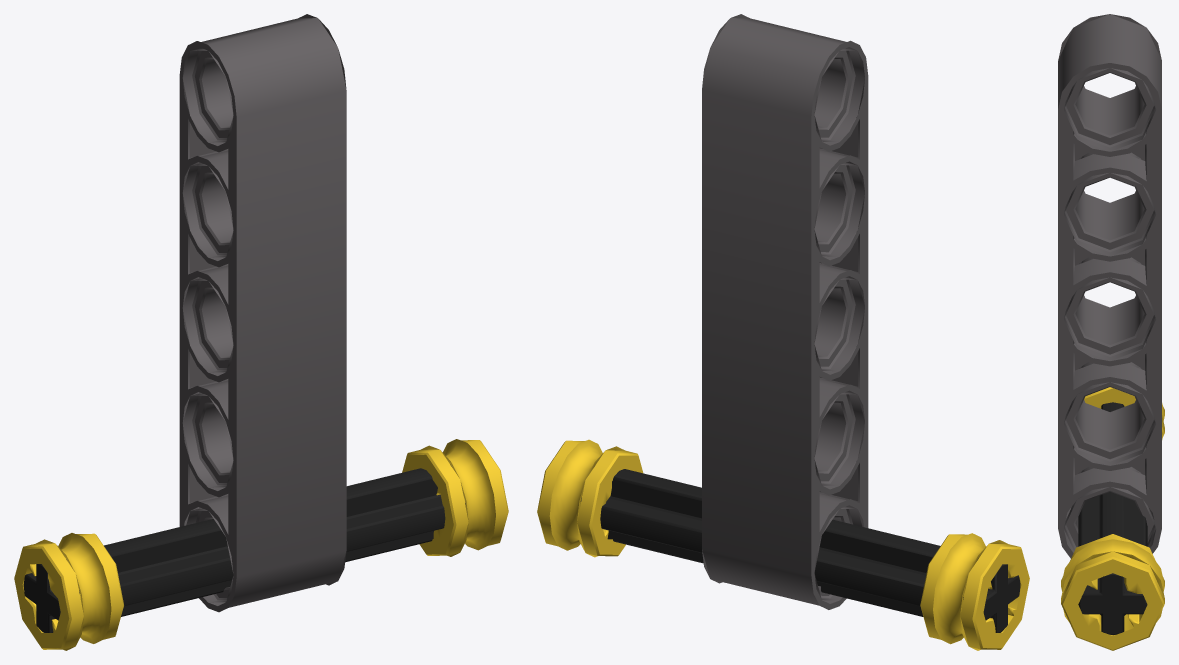
File: GrabPointB.fbx
3 renders of one model, left to right at view 1: azimuth 30°, elevation 25°; view 2: azimuth 150°, elevation 25°; view 3: azimuth 270°, elevation 25°, orthographic. The views are drawn at different scales.
Visible parts, largest first — view 1: 00001_32316.dat; view 2: 00001_32316.dat; view 3: 00001_32316.dat.
Part boxes in pixels (left/top/right/bottom): 00001_32316.dat: left=14, top=14, right=508, bottom=650; 00001_32316.dat: left=537, top=14, right=1029, bottom=650; 00001_32316.dat: left=1058, top=14, right=1164, bottom=650.
Bounding box in the file's own units: 0.8 × 0.985 × 0.185.
